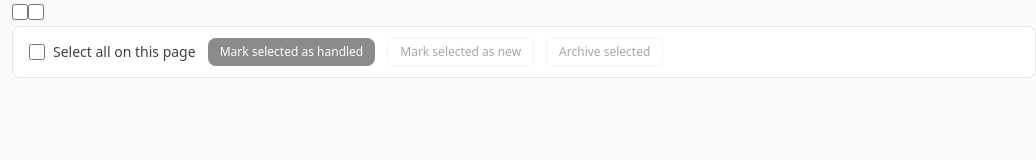
it: BulkActionBar — error banner clears when selection changes then retry succeeds › removes the error banner after a status action fails, selection changes, and retry succeeds
Step 1. Click the 1st checkbox named "Select inquiry" → (20,12), box [12, 4, 28, 20]
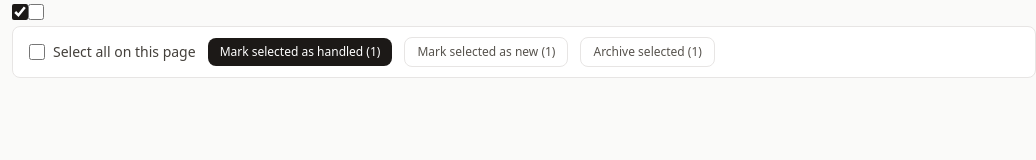
Step 2. Click the button "Mark selected as handled (1)" → (300,52), box [208, 38, 392, 66]
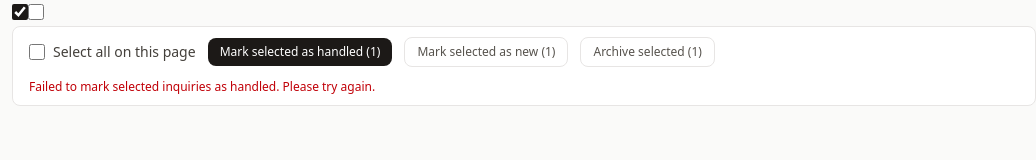
Now the text "Failed to mark selected inquiries as handled. Please try again." is shown, box [29, 79, 375, 95]
Step 3. Click the 2nd checkbox named "Select inquiry" → (36,12), box [28, 4, 44, 20]
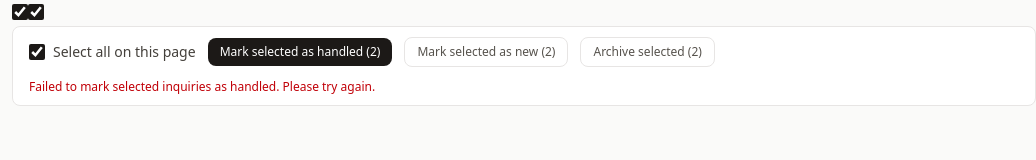
Now the text "Failed to mark selected inquiries as handled. Please try again." is shown, box [29, 79, 375, 95]
Step 4. Click the button "Mark selected as handled (2)" → (300,52), box [208, 38, 392, 66]
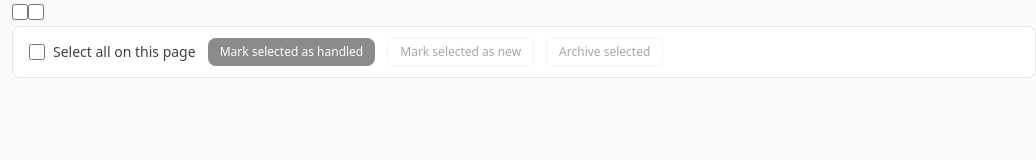
Now the text "Failed to mark selected inquiries as handled" is gone
